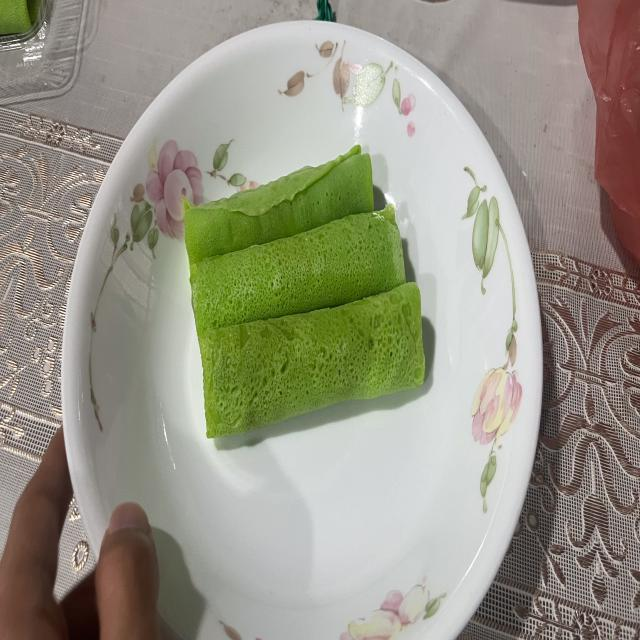Kuih-Ketayap: (199, 282, 425, 438), (190, 204, 405, 336), (182, 144, 374, 264)
